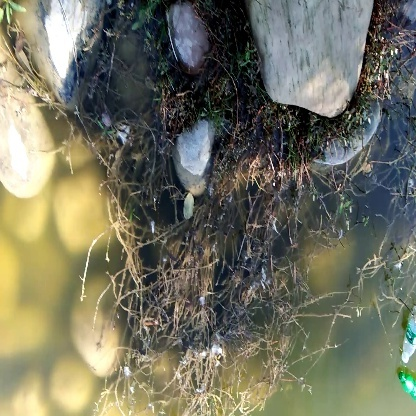grass: (122, 237, 272, 388)
